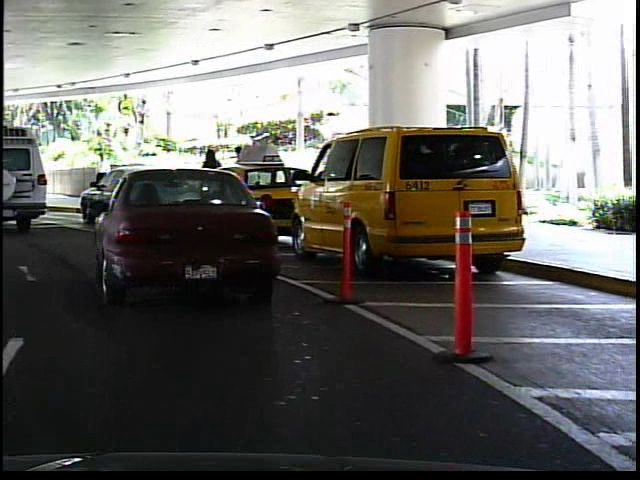person: (197, 143, 229, 207), (231, 140, 257, 206), (90, 146, 114, 201), (22, 155, 42, 198)
